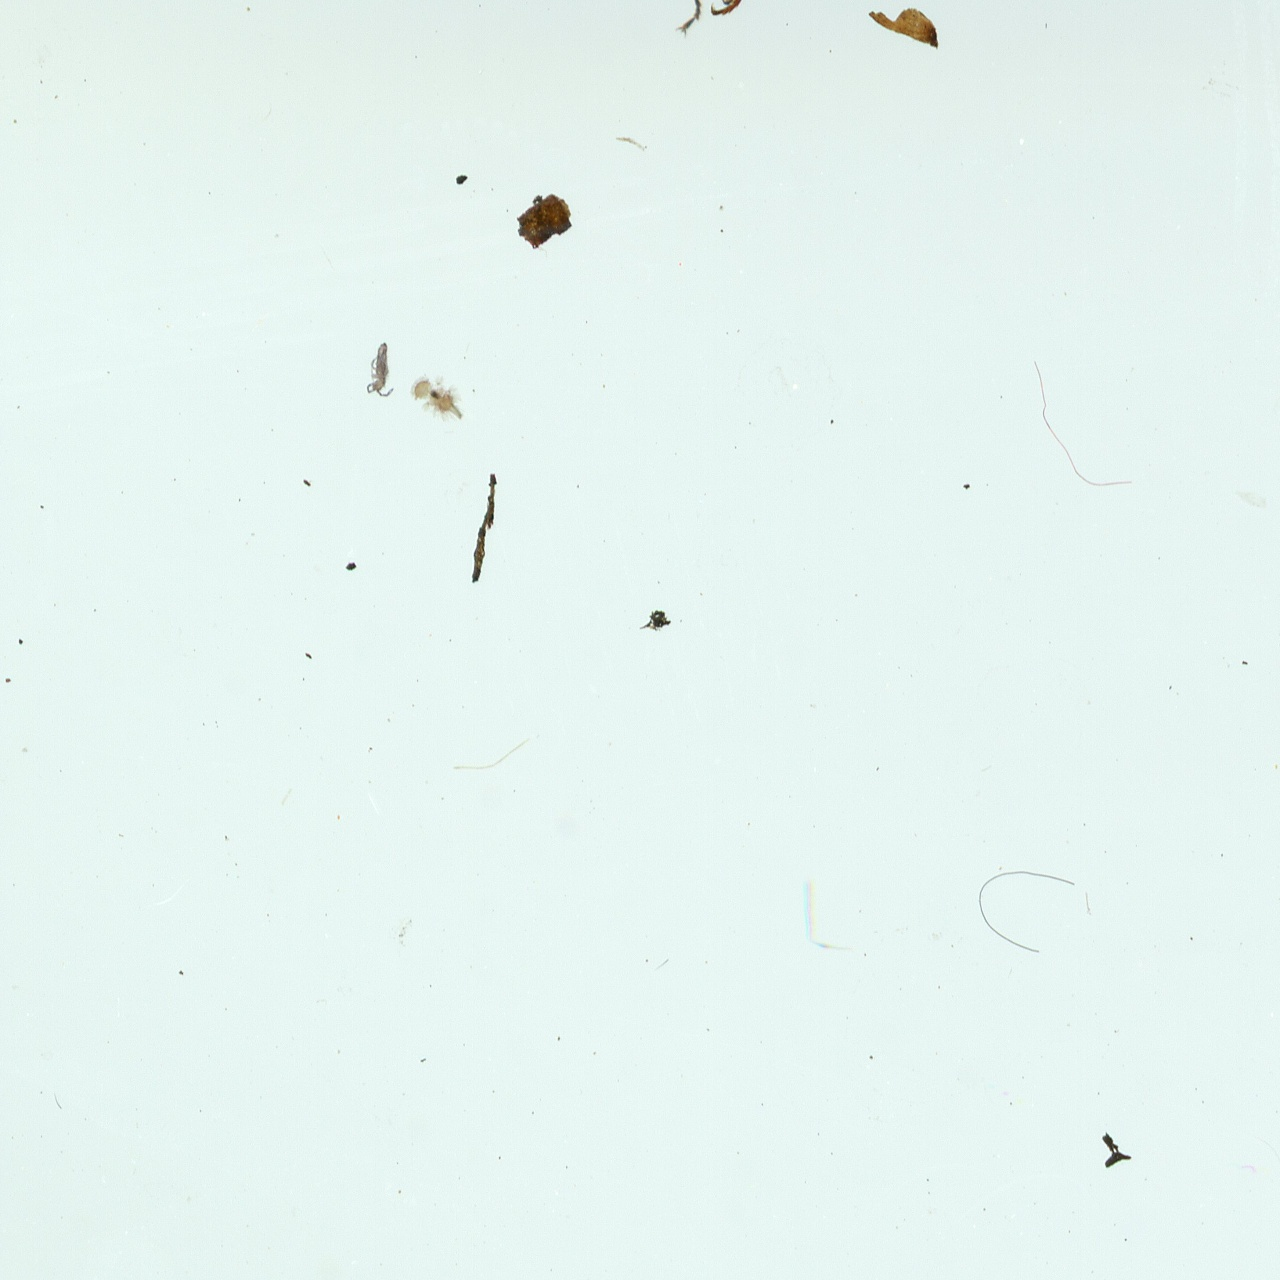arthropod: (407, 368, 469, 426), (365, 338, 396, 399)
